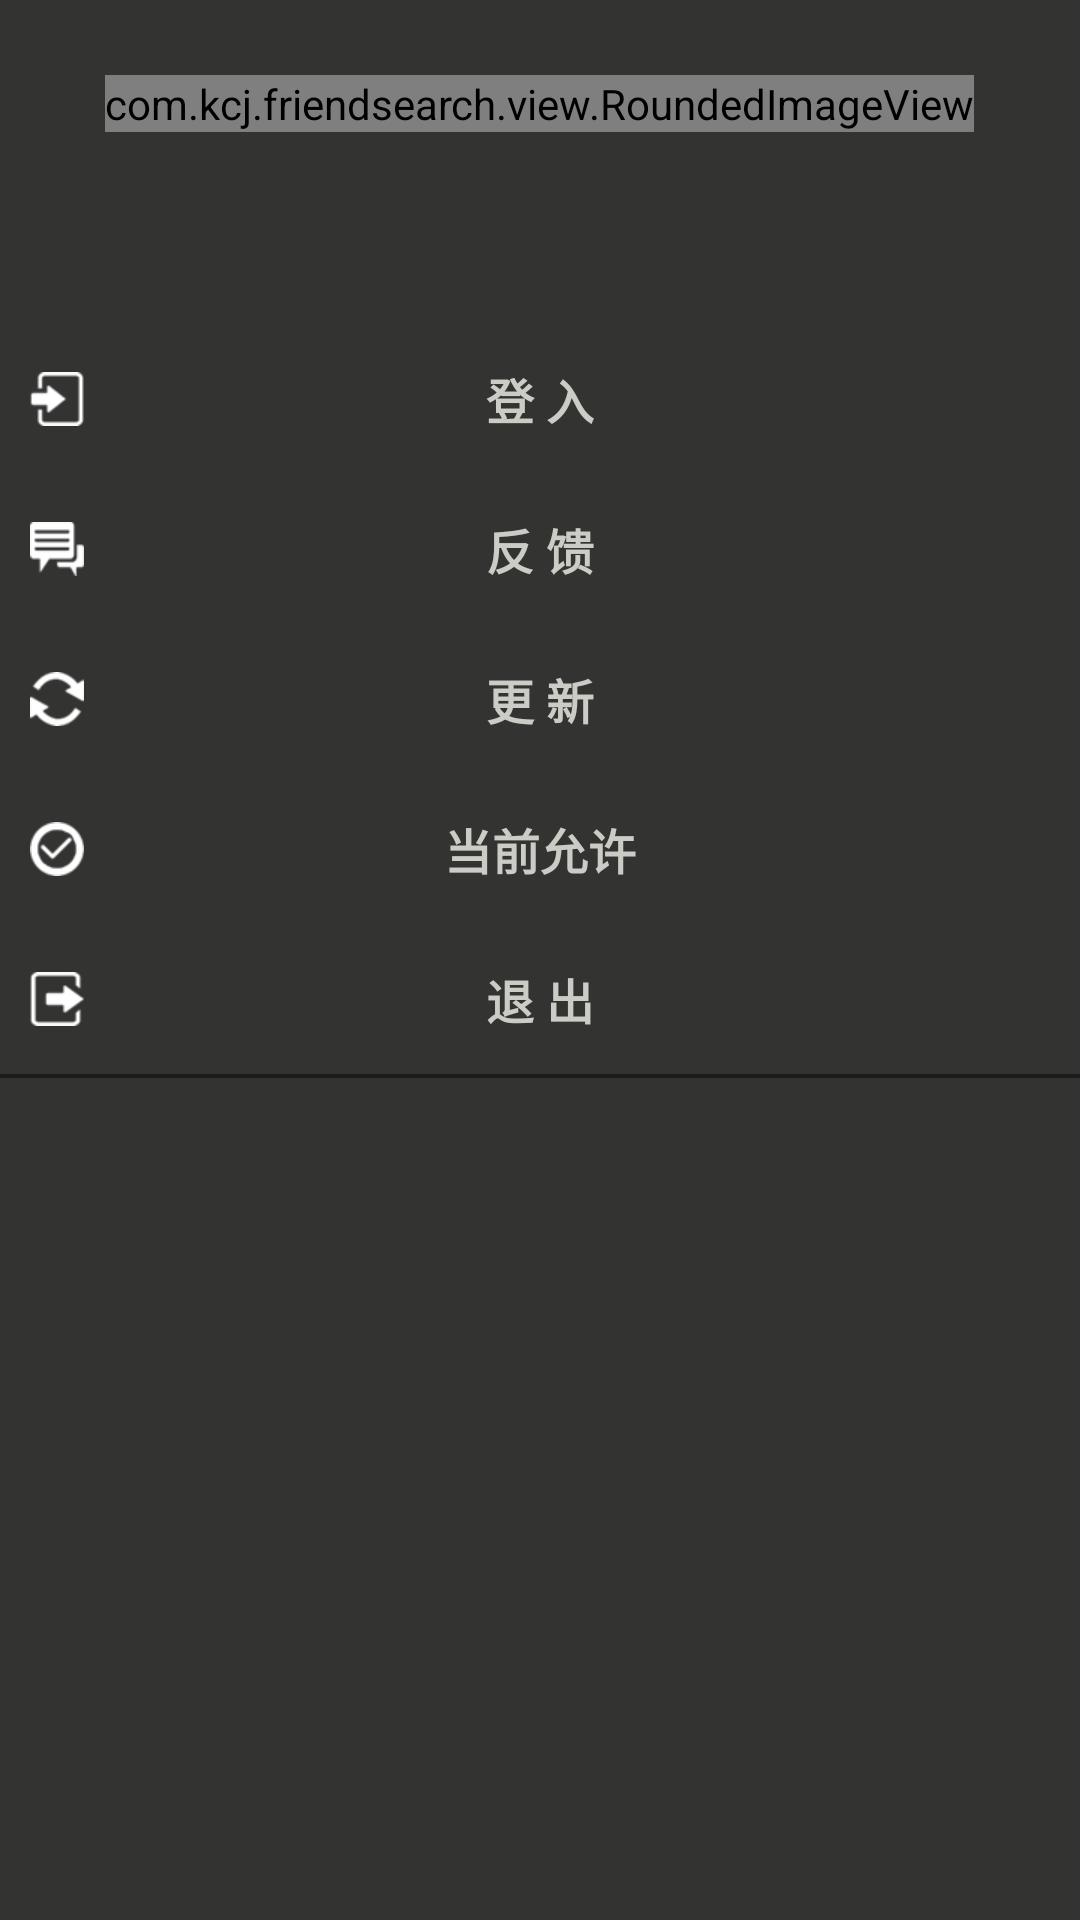

Icons on this 1080px×1920px Android screen, each with its box as bbox=(x1, y1, x2, y2):
fragment allow: bbox=(30, 822, 84, 876)
fragment exit: bbox=(30, 972, 84, 1026)
fragment feedback: bbox=(30, 522, 84, 576)
fragment login: bbox=(30, 372, 84, 426)
fragment update: bbox=(30, 672, 84, 726)
